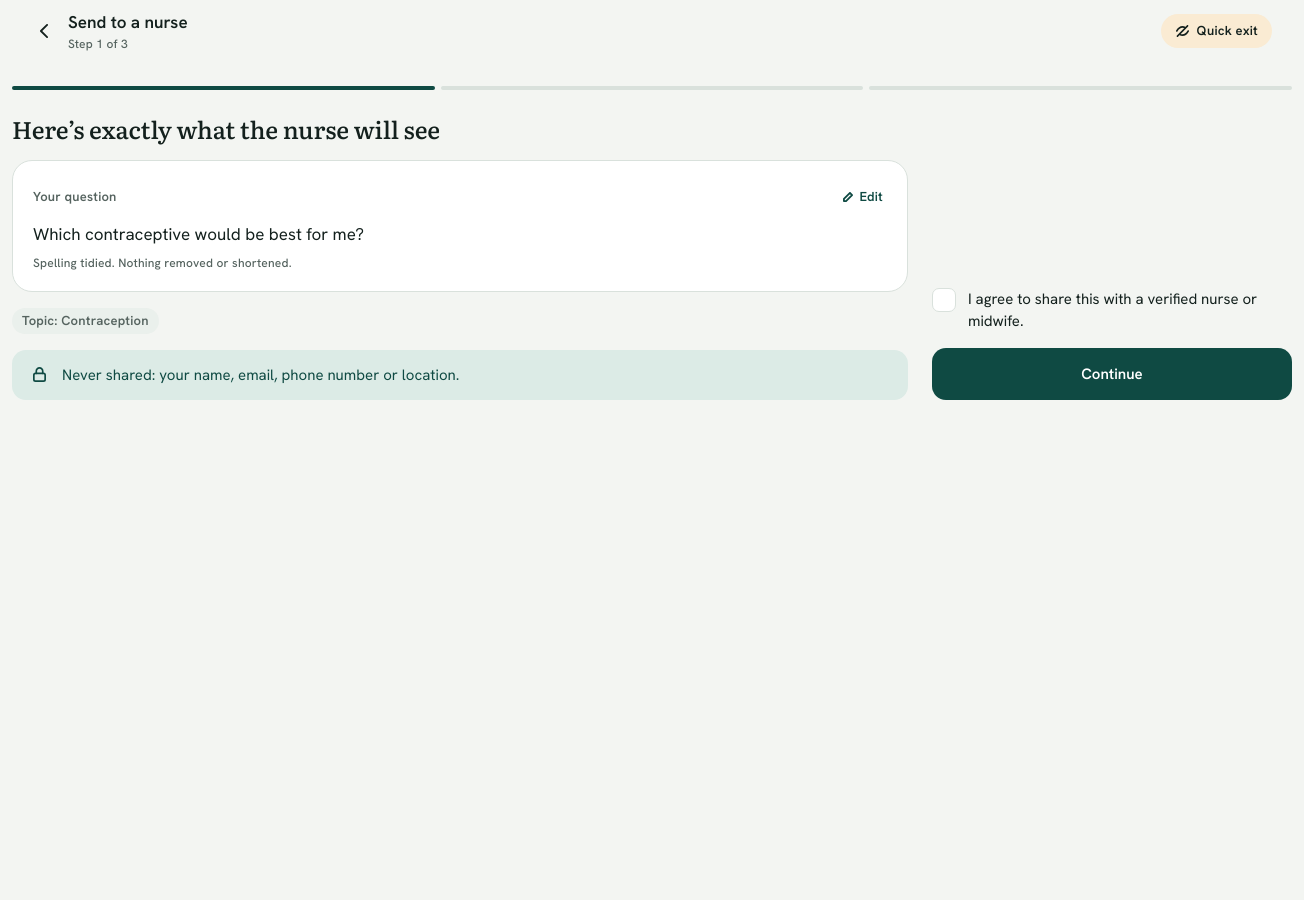
Test: W08 Who should answer? › mobile: rows with a Verified badge; the toggle above Continue
Expected: the heading "Here’s exactly what the nurse will see" is shown, [12, 111, 440, 146]
What coordinates should you click on to do the following:
click the checkbox labelled "I agree to share this with a verified nurse or midwife."
I would click on:
 (1112, 310)
Its box is [932, 288, 1292, 332].
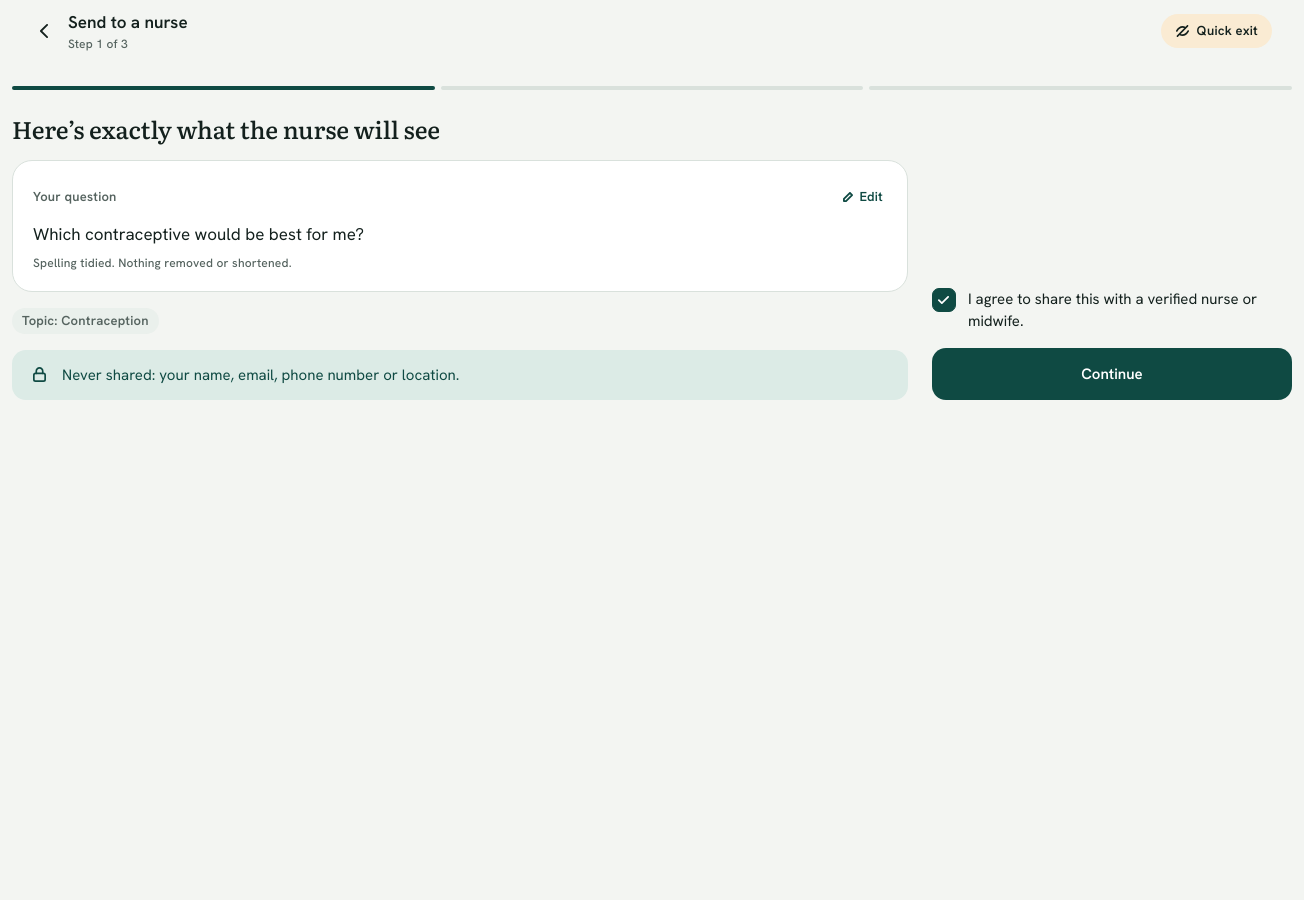
What coordinates should you click on to do the following:
click the button "Continue"
I would click on:
 (1112, 374)
Its box is [932, 348, 1292, 400].
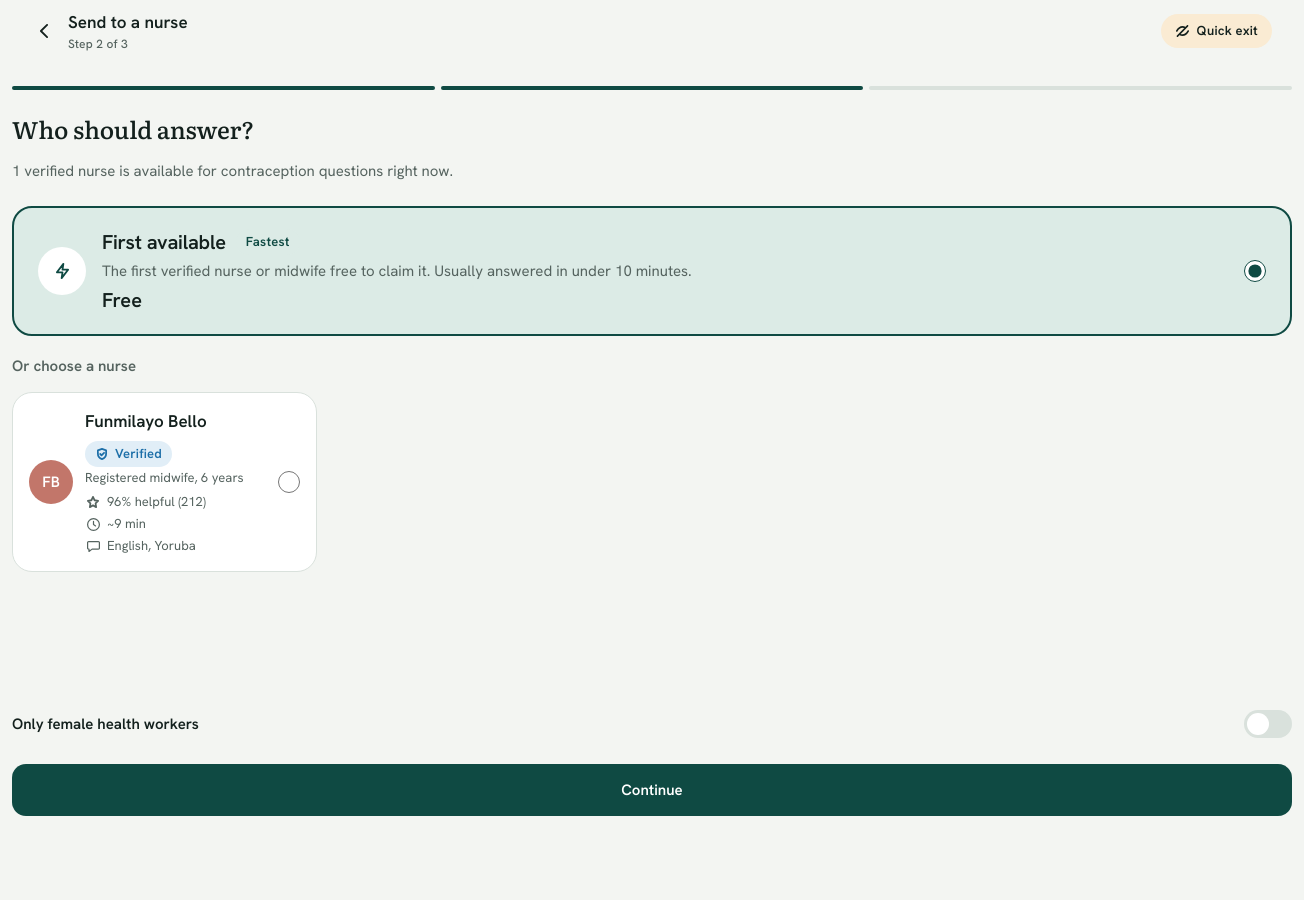
Expected: the heading "Who should answer?" is shown, [12, 111, 254, 146]
Expected: the text "Verified" is shown, [85, 441, 172, 467]
Expected: the switch named "Only female health workers" is shown, [1244, 710, 1292, 738]
